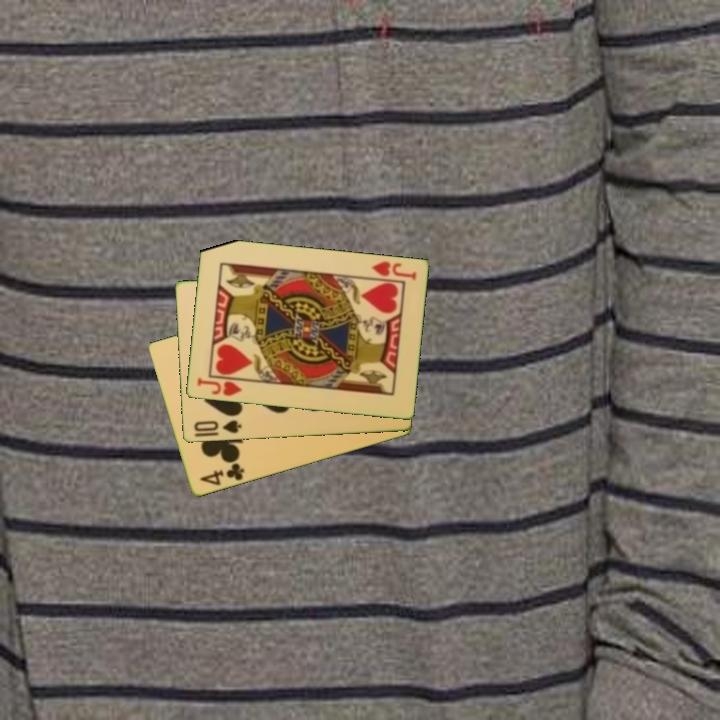10s: (190, 417, 244, 437)
4c: (196, 460, 247, 489)
Jh: (193, 374, 244, 399), (368, 258, 419, 283)
